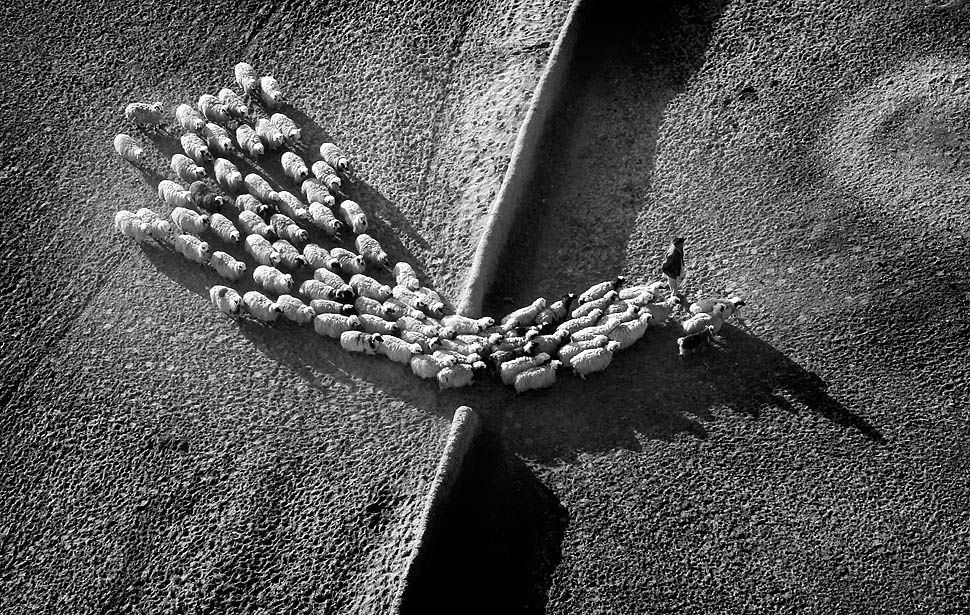sheep: (570, 339, 623, 383), (611, 310, 654, 354), (577, 273, 628, 306), (689, 296, 747, 324), (639, 295, 683, 331), (244, 290, 283, 330), (677, 322, 717, 361), (536, 291, 579, 327), (517, 357, 562, 391), (502, 296, 546, 330), (308, 202, 346, 241), (499, 352, 548, 382), (253, 263, 296, 297), (604, 289, 656, 317), (438, 359, 488, 388), (683, 303, 728, 335), (380, 331, 422, 365), (244, 233, 282, 270), (313, 313, 359, 343), (175, 232, 211, 270), (339, 328, 383, 359), (442, 310, 496, 335), (278, 292, 315, 327), (349, 274, 393, 303), (207, 284, 243, 319), (277, 191, 315, 224), (207, 252, 249, 281), (170, 206, 212, 235), (599, 303, 641, 331), (122, 104, 169, 129), (617, 280, 667, 303), (243, 173, 281, 203), (413, 351, 458, 376), (114, 207, 148, 240), (209, 211, 244, 243), (354, 234, 390, 265), (235, 124, 265, 161), (157, 177, 192, 208), (255, 116, 285, 152), (443, 336, 485, 361), (178, 133, 214, 162), (330, 247, 366, 276), (403, 327, 443, 353), (170, 154, 207, 182), (313, 269, 356, 293), (339, 199, 370, 232), (270, 113, 303, 144), (113, 134, 146, 164), (217, 87, 250, 117), (319, 142, 351, 172), (176, 101, 205, 134), (233, 62, 261, 96), (212, 159, 243, 189), (303, 243, 335, 272), (296, 280, 342, 300), (281, 151, 312, 180), (258, 74, 284, 108), (307, 300, 356, 318), (385, 299, 425, 321), (304, 178, 334, 206), (393, 262, 420, 292)
